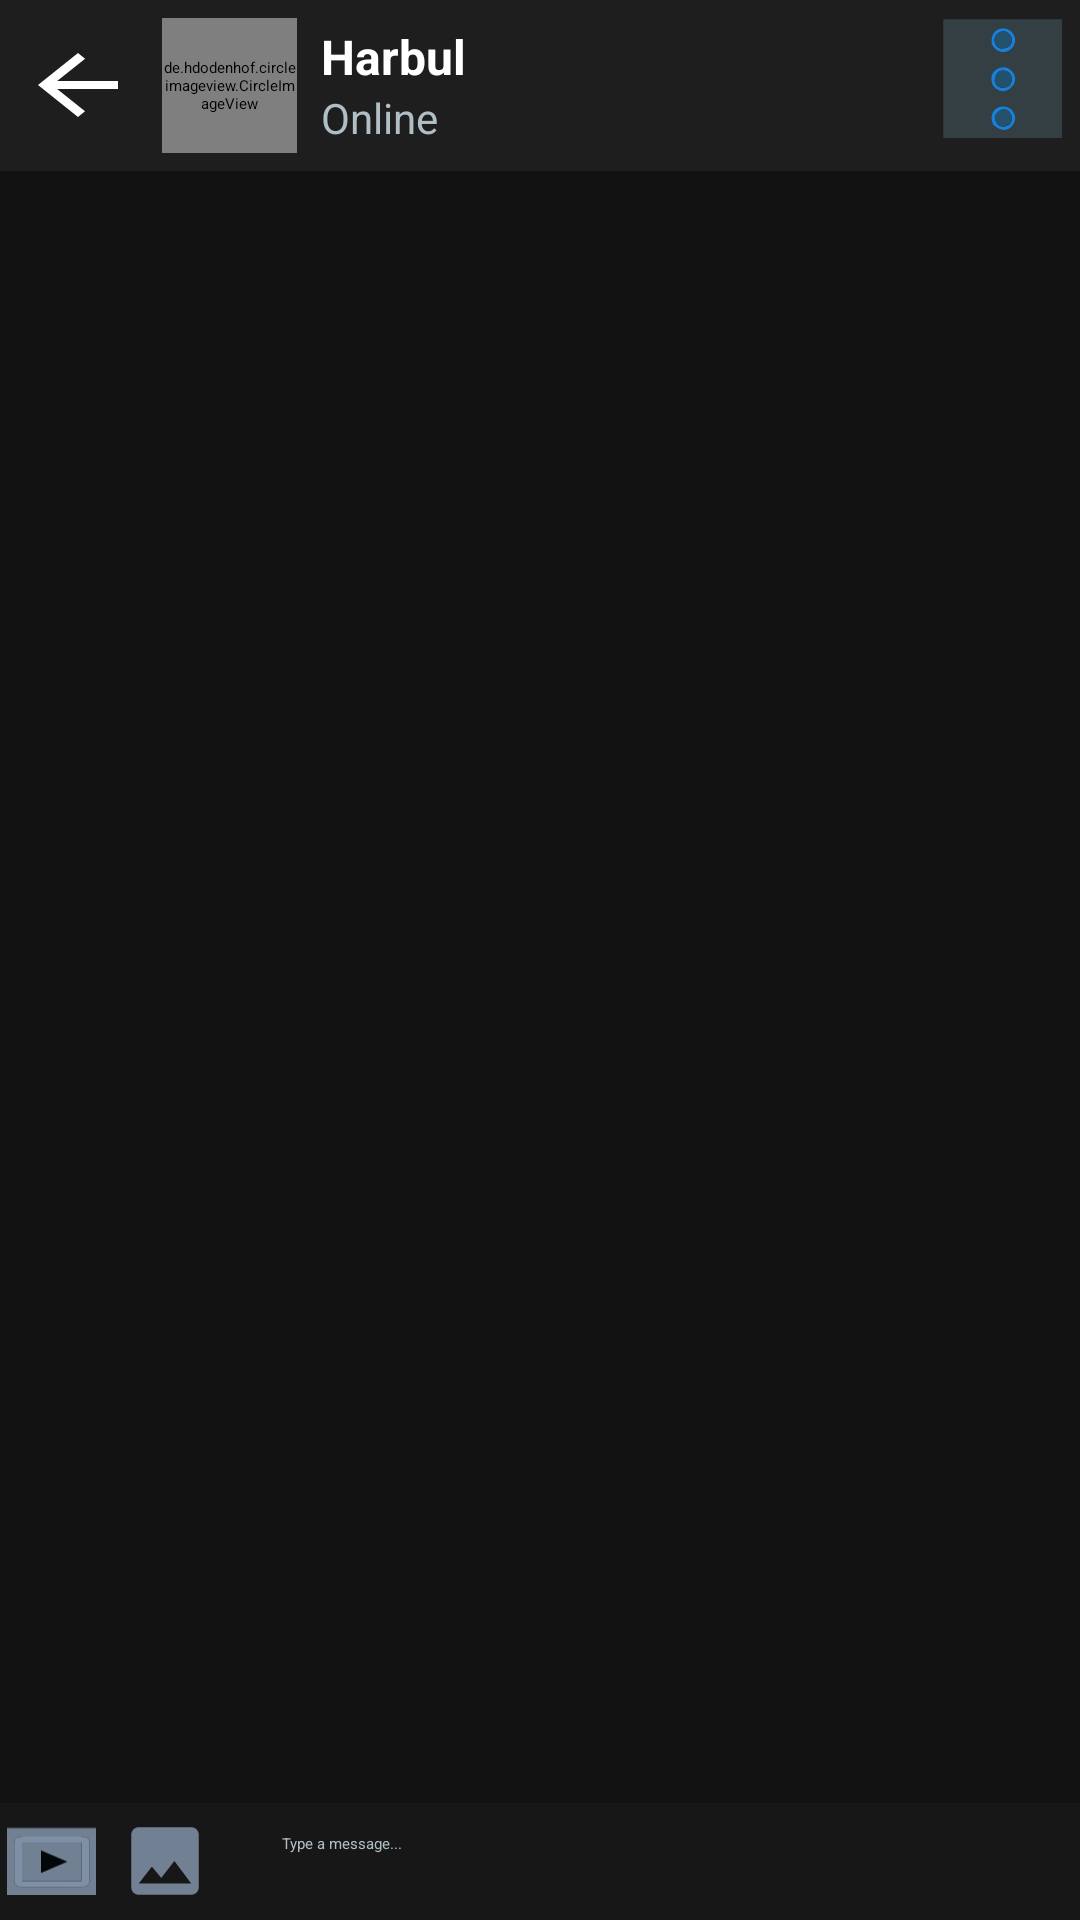

Icon click points for this 1080w x 1920h phone screenshot, format (x=x, y=y):
Attach Image: (x=165, y=1861)
Attach Video: (x=51, y=1861)
Back: (x=78, y=85)
